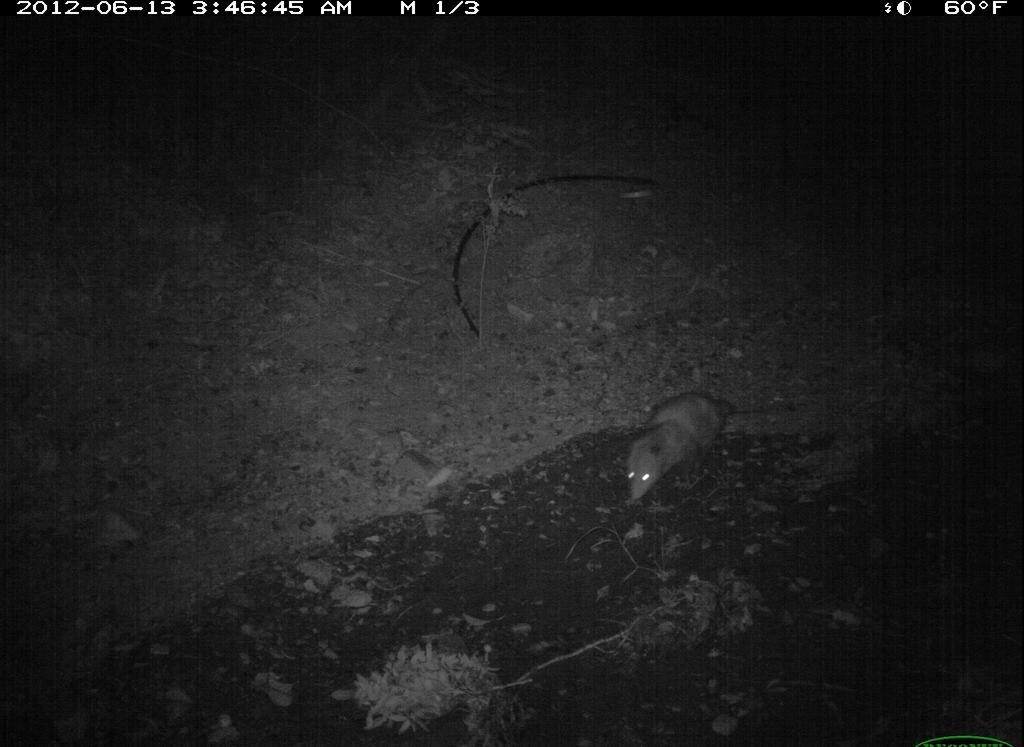opossum: (616, 386, 743, 507)
